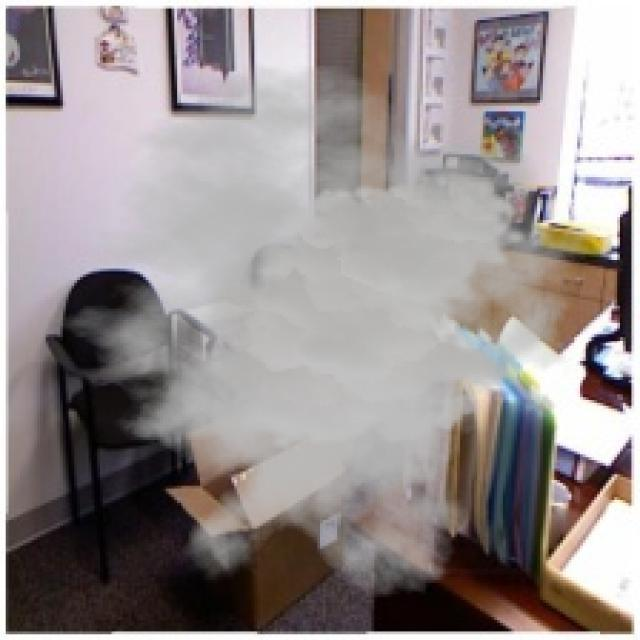Smoke: (34, 63, 589, 600)
